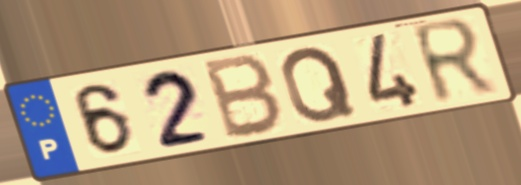2: (141, 65, 220, 156)
4: (365, 29, 423, 111)
6: (72, 82, 137, 159)
B: (201, 51, 287, 143)
Q: (278, 43, 361, 125)
R: (406, 15, 502, 110)
